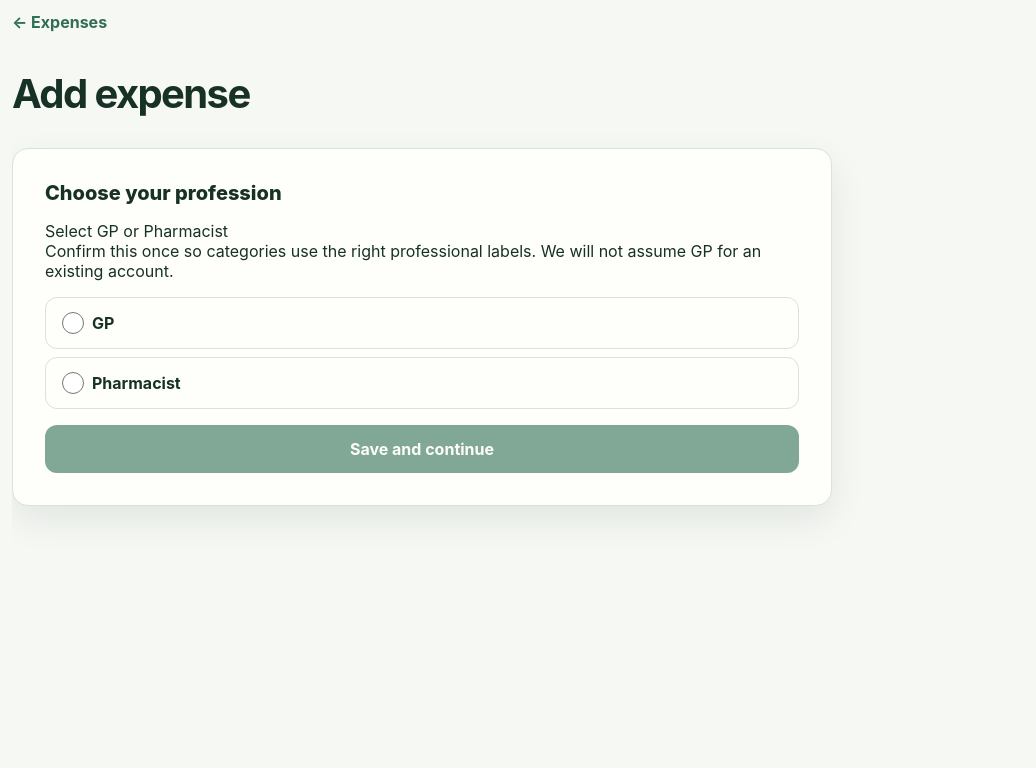
Test case: requires an explicit profession choice for a legacy profile before revealing expense routes
This screenshot has width=1036, height=768.
Expected: the heading "Choose your profession" is shown, [45,181,282,205]
Expected: the link "Scan a receipt" is not shown
Click the radio button labelled "Pharmacist".
click(73, 383)  # box [62,372,84,394]
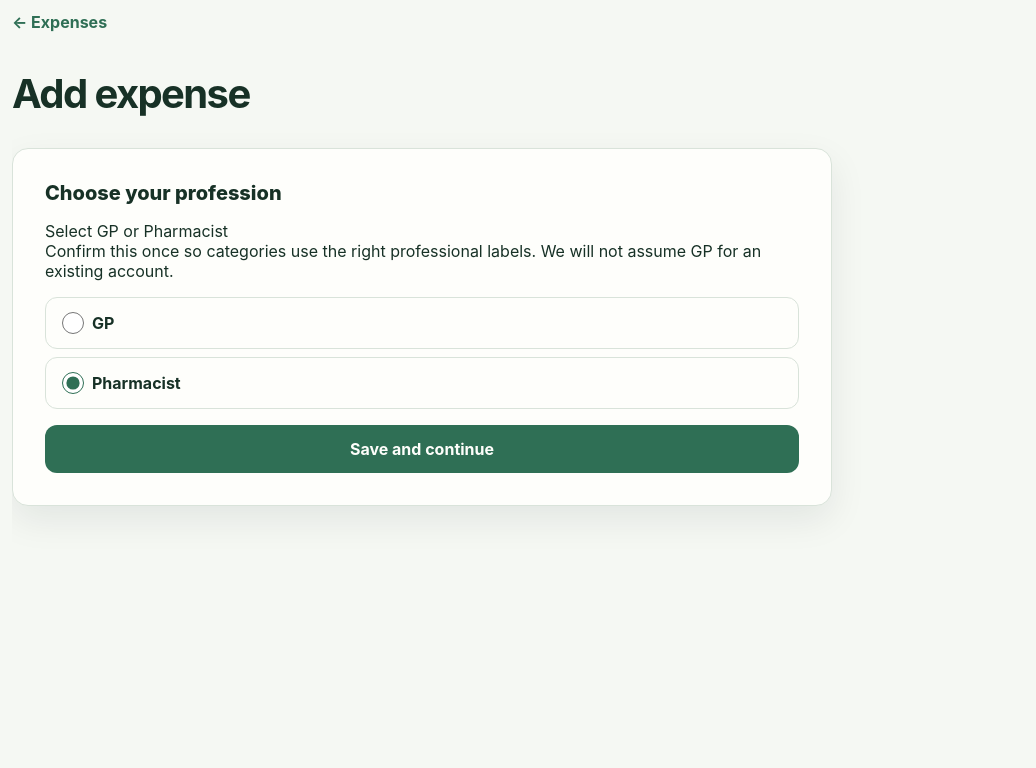
Click the button "Save and continue".
click(422, 449)  # box [45,425,799,473]
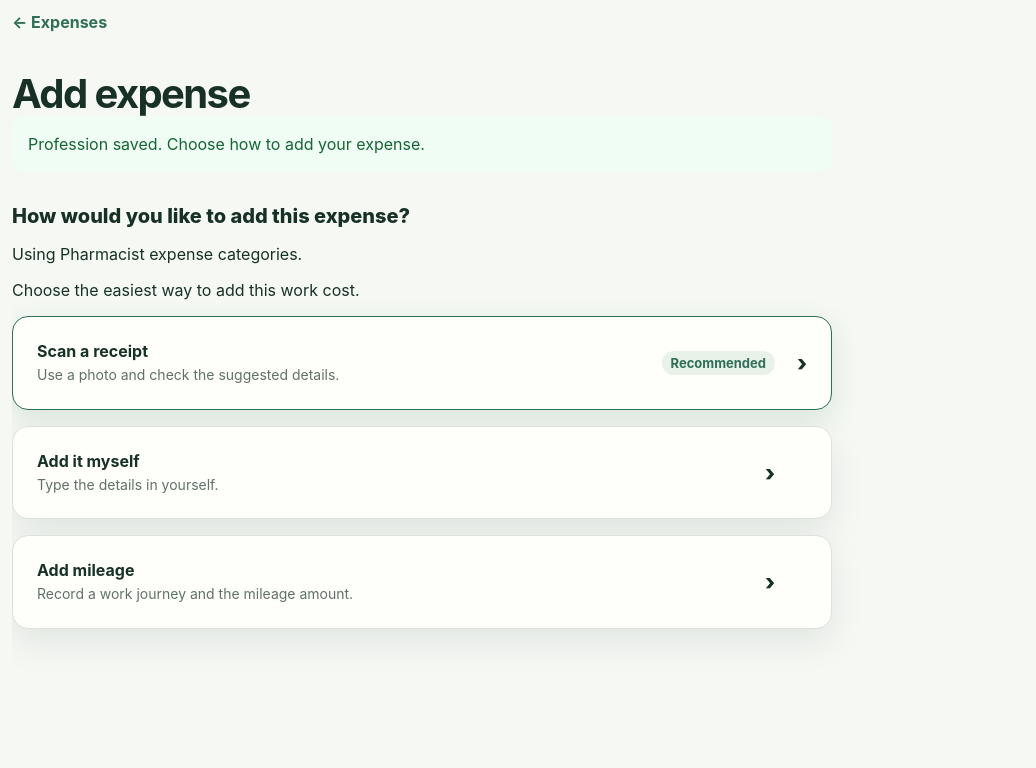
Result: the message shows "Profession saved" at [28,134,425,154]
Result: the link "Scan a receipt" is shown at [12,316,832,410]
